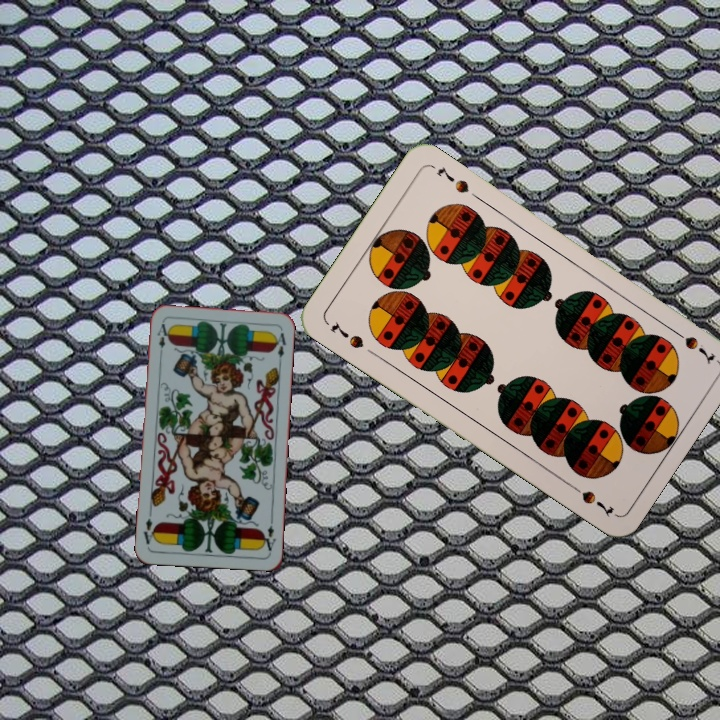EA: (259, 514, 278, 553), (153, 319, 169, 360)
S7: (667, 324, 717, 368), (326, 318, 367, 352)
